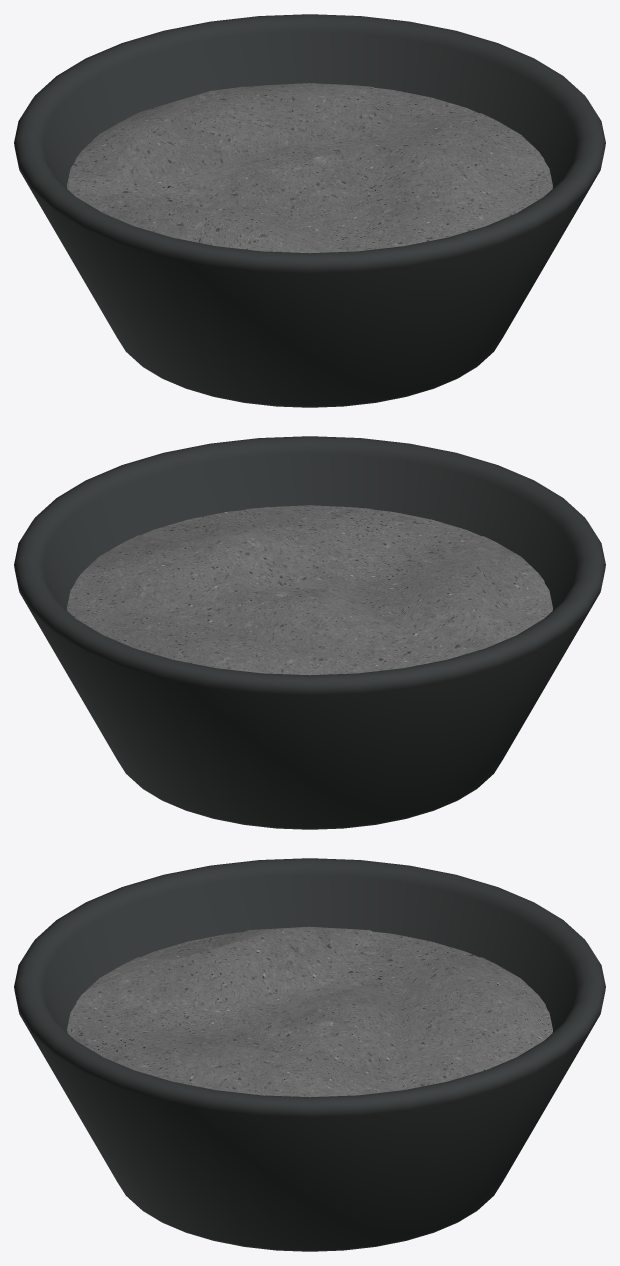
3 views of the same model, one above another, from view 1: azimuth 30°, elevation 25°; view 2: azimuth 150°, elevation 25°; view 3: azimuth 270°, elevation 25° (orthographic).
Parts seen in each view (by area): view 1: CL_shajiang; view 2: CL_shajiang; view 3: CL_shajiang.
Boxes of the visible parts, <box> form: CL_shajiang: <box>14,14,605,407</box>; CL_shajiang: <box>14,436,605,829</box>; CL_shajiang: <box>14,858,605,1251</box>.
Size of the model in its own units: 30.78 by 10.99 by 30.78.
Materials: 2 (1 with a texture image).
